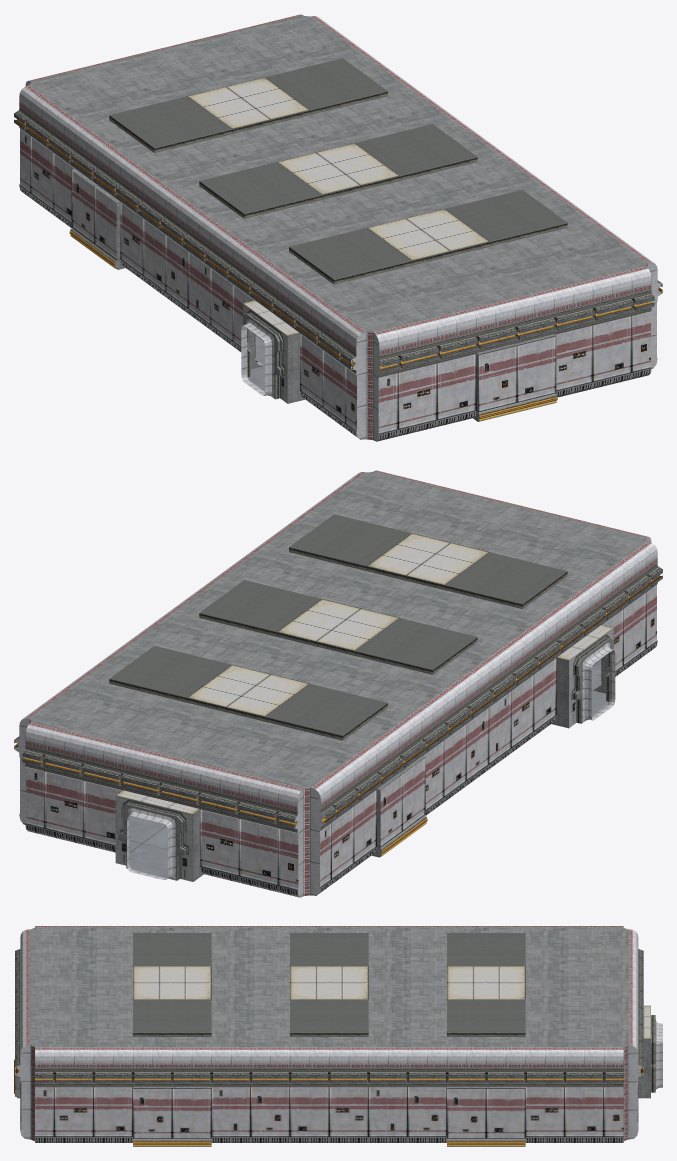
Rendered from poi_all_rebl_bunker_s01_r14_commandroom_mesh_r14.fbx.
The picture shows the model from 3 angles, top to bottom: view 1: azimuth 30°, elevation 25°; view 2: azimuth 150°, elevation 25°; view 3: azimuth 270°, elevation 25°; orthographic projection. The views are drawn at different scales.
Visible parts, largest first — view 1: mesh_node; view 2: mesh_node; view 3: mesh_node.
Part boxes in pixels (left/top/right/bottom): mesh_node: left=14, top=14, right=662, bottom=441; mesh_node: left=14, top=470, right=662, bottom=897; mesh_node: left=14, top=926, right=662, bottom=1146.
Bounding box in the file's own units: 17.07 × 5.55 × 33.07.
